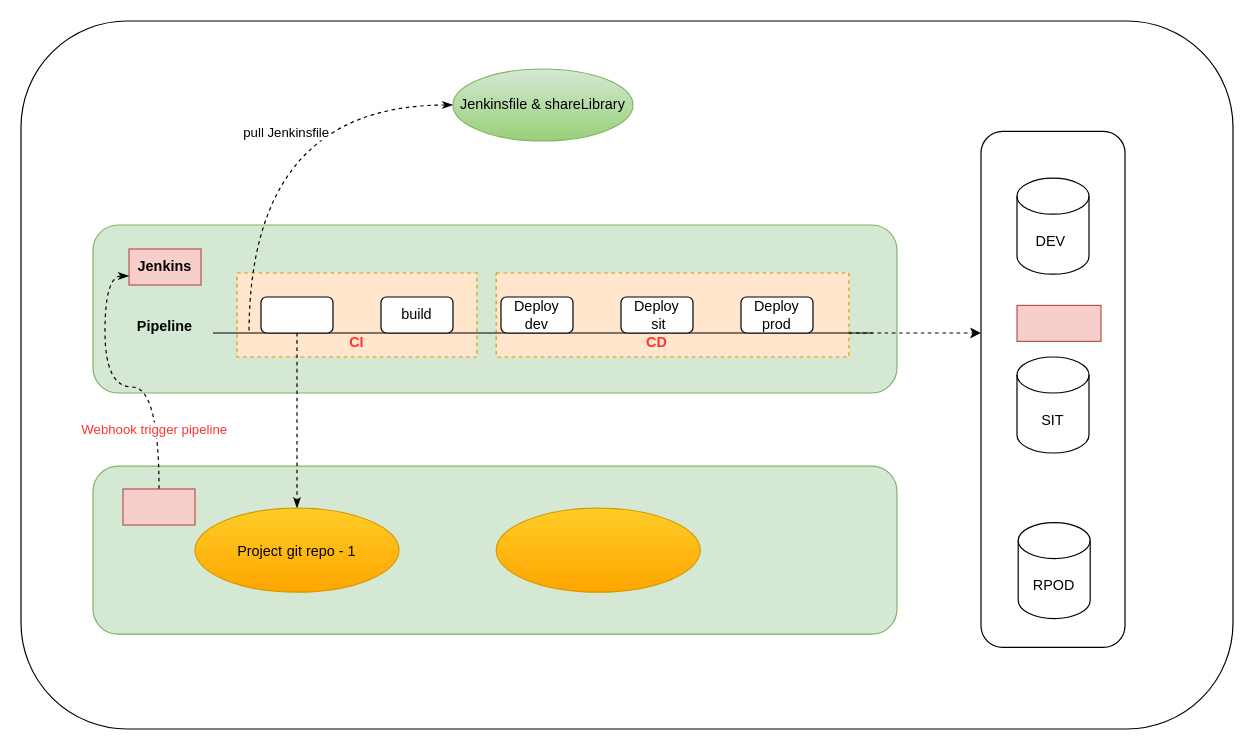
Some shapes in this 1254 by 750 pixel diagram are drawn without their labels. Each missing label, with the box of its shape:
checkout: (260, 296, 333, 333)
Environment: (1016, 304, 1101, 341)
Gitlab: (122, 488, 195, 525)
Project git repo - 2: (495, 507, 700, 592)
